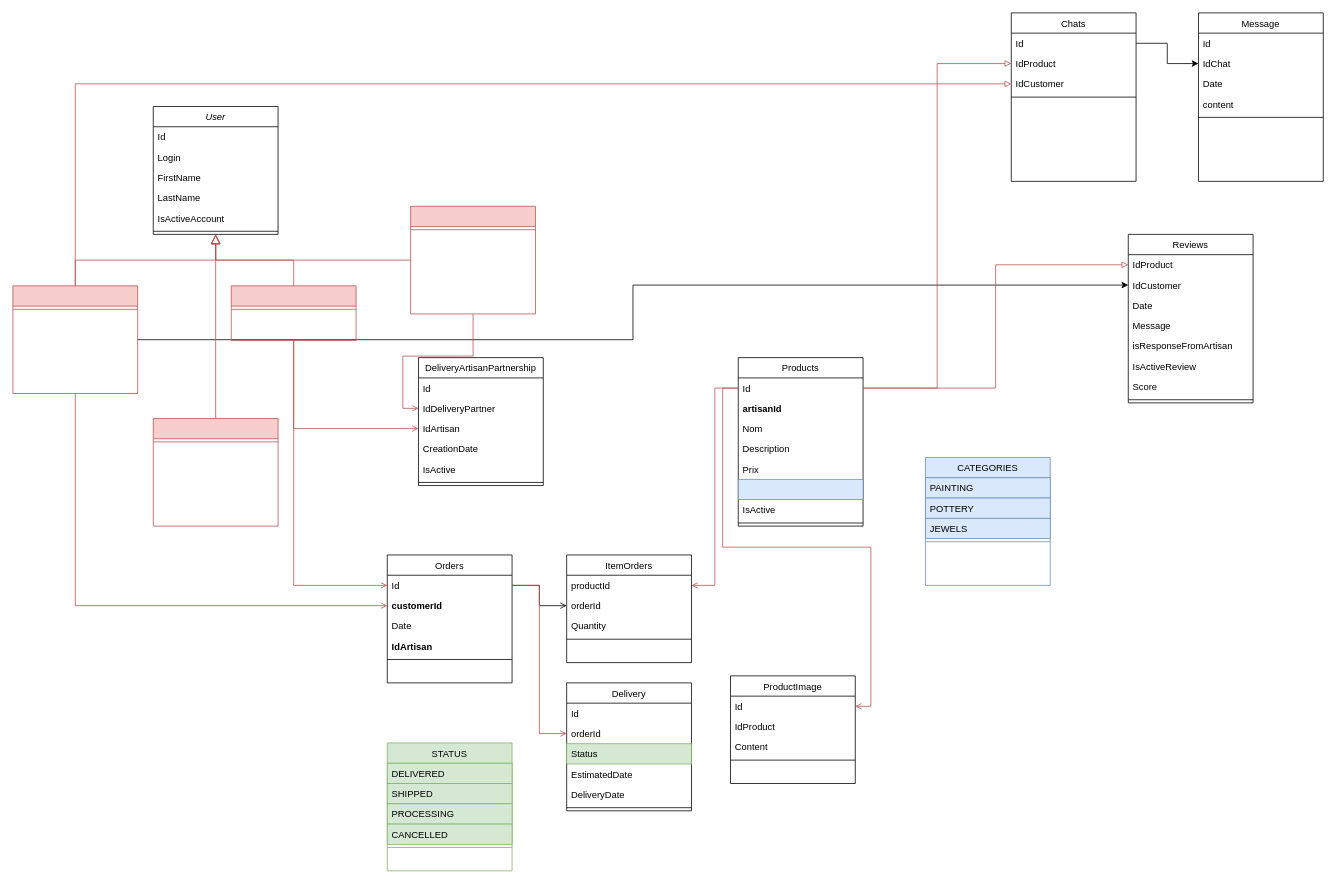
This 1336x884 diagram has some shape labels left out. The shapes that lost their labels are listed below. From the top down, each one's centre as x and y in pixels, then its label:
At point 472,260: "DeliveryPartner".
At point 293,312: "Artisan".
At point 75,339: "Customer".
At point 215,472: "Admin".
At point 800,489: "Catégorie".
